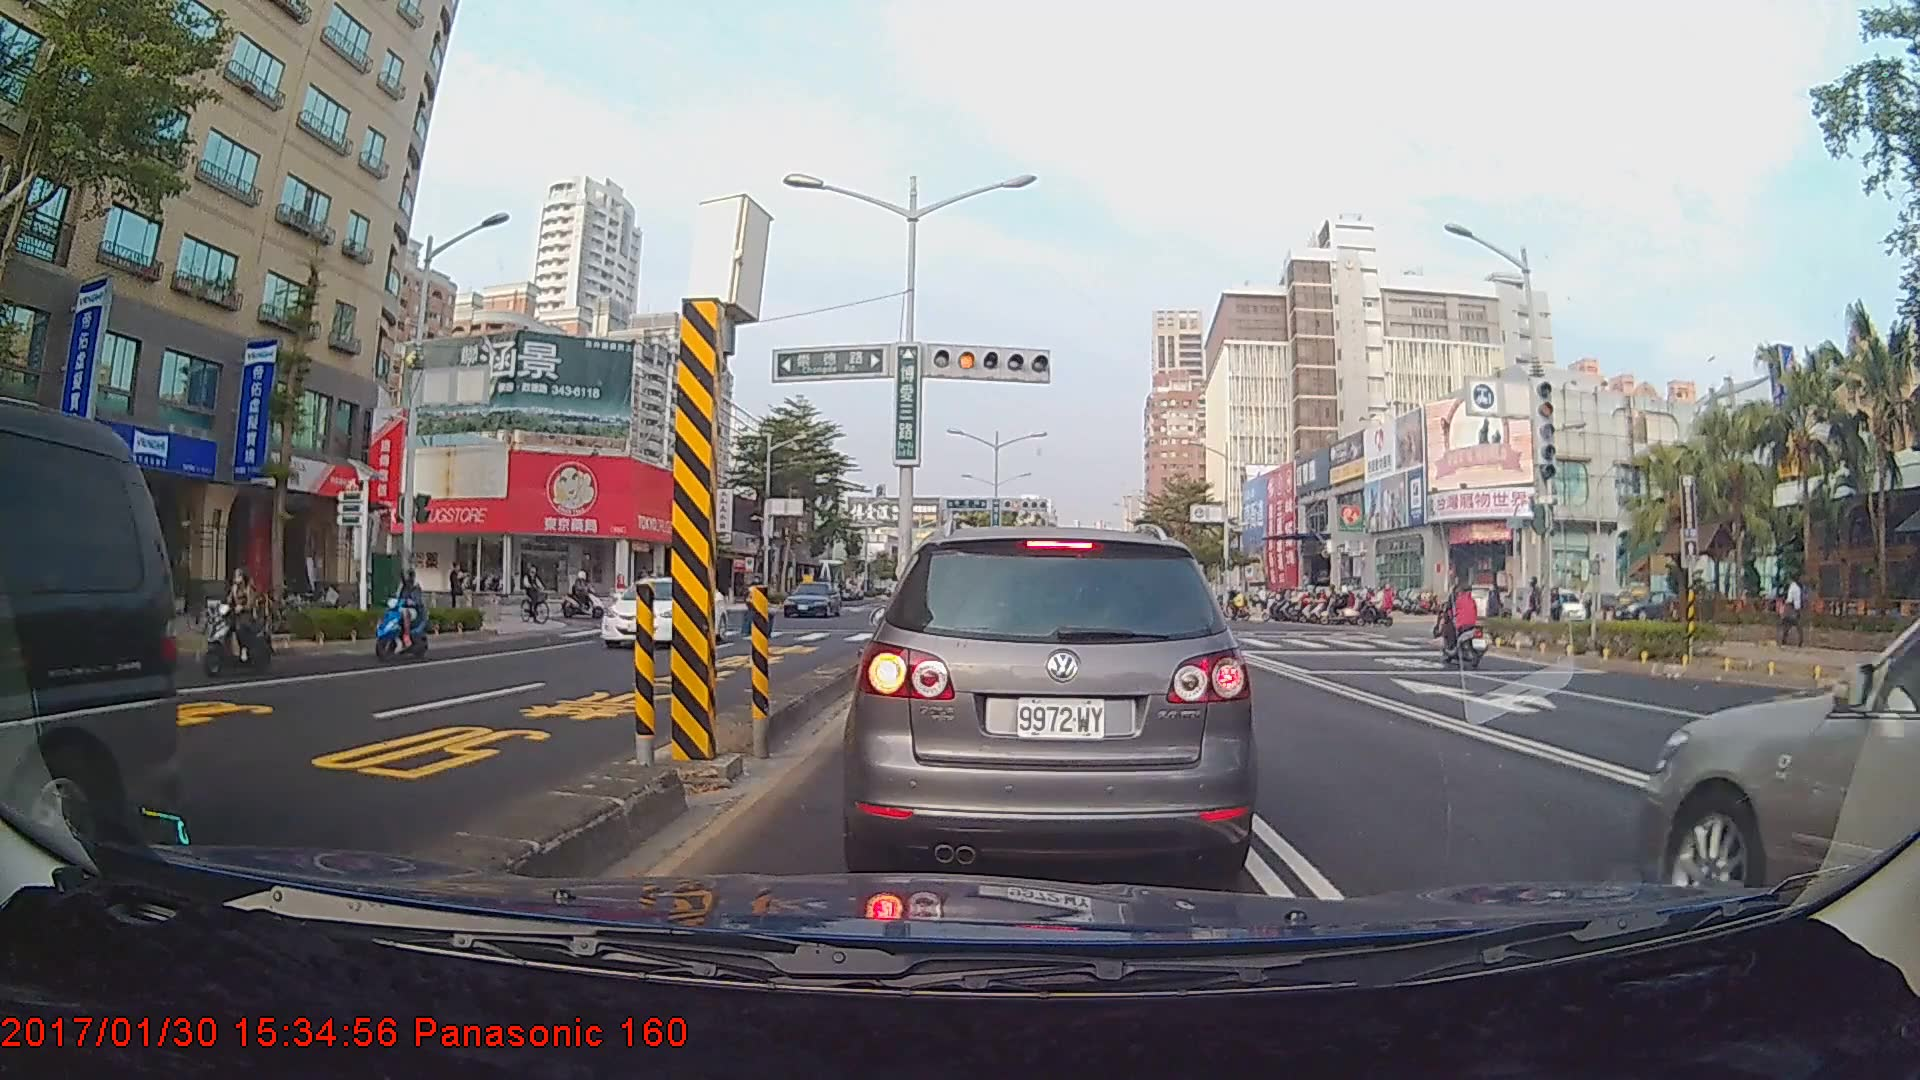pedestrian: (1779, 574, 1806, 648), (448, 558, 468, 621)
rider: (197, 564, 282, 685), (371, 554, 432, 670), (1440, 584, 1496, 673), (561, 568, 613, 625), (518, 559, 553, 629)
vehicle: (1646, 527, 1920, 1049), (856, 522, 1251, 873), (0, 393, 182, 915), (598, 574, 728, 650), (781, 578, 839, 618)
